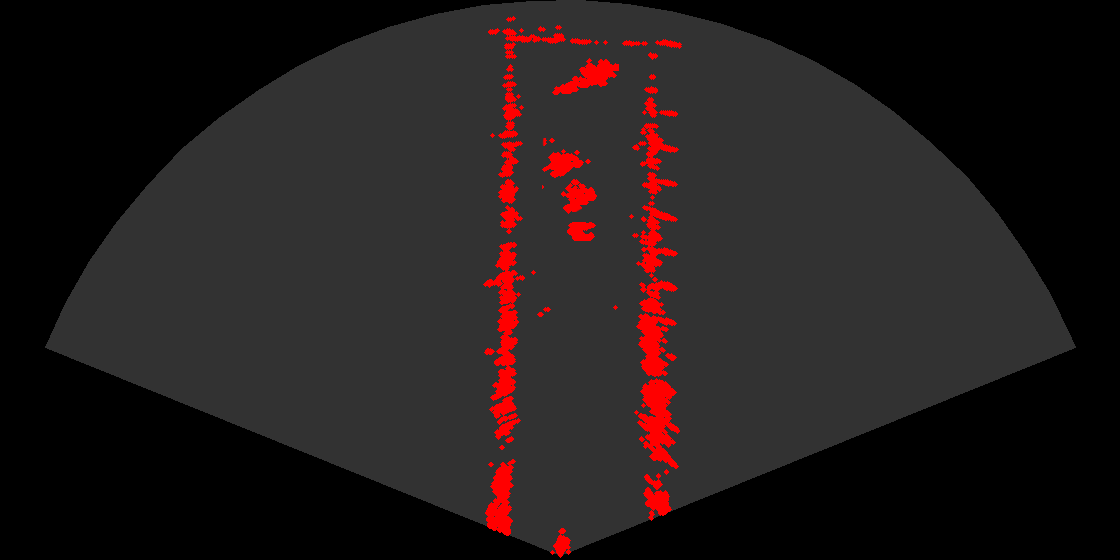ball: (547, 203, 607, 244)
cage: (542, 138, 605, 222)
frogman: (551, 52, 619, 99)
